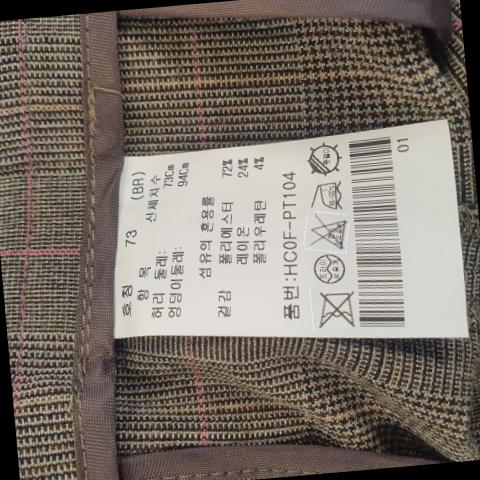DN_bleach: (310, 215, 349, 251)
DN_wash: (319, 287, 357, 327)
dry_clean_petrol_only: (314, 254, 351, 283)
iron_low: (311, 180, 347, 214)
line_dry_in_shade: (306, 138, 343, 180)
